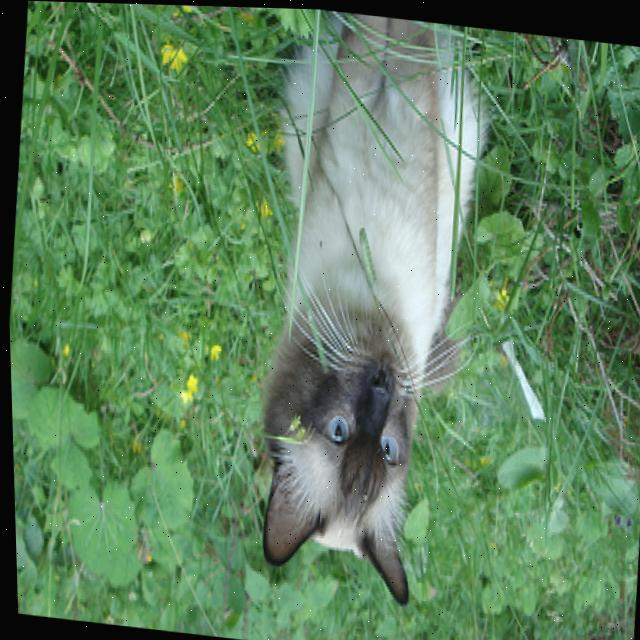Siamese: (230, 5, 508, 617)
